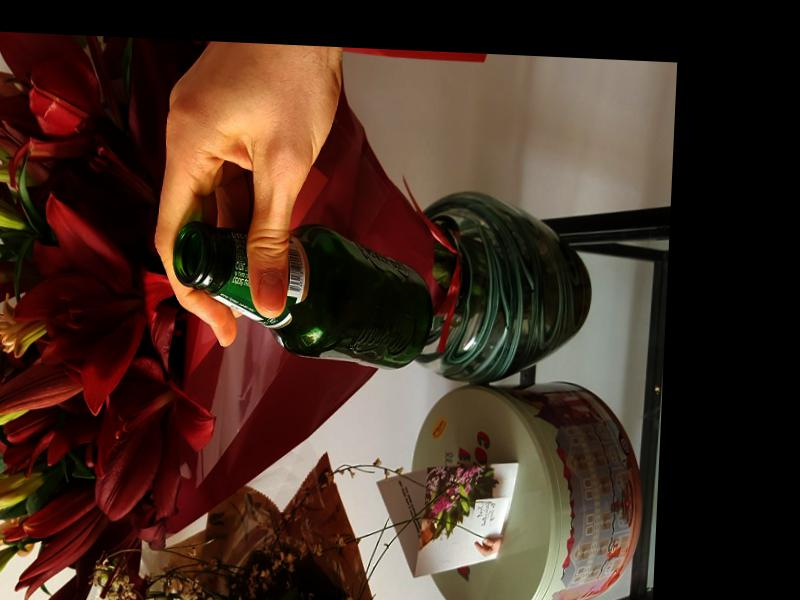Beer: (170, 218, 435, 372)
